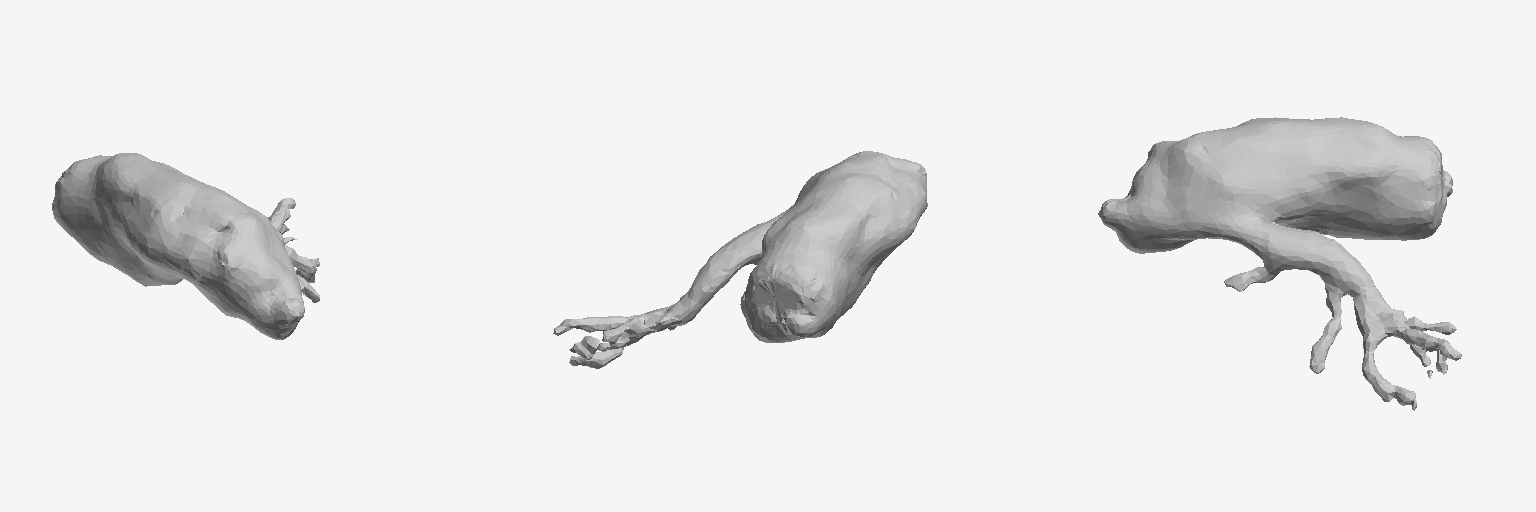
The model's file is veia2.obj.
3 views of the same model, side by side, from view 1: azimuth 30°, elevation 25°; view 2: azimuth 150°, elevation 25°; view 3: azimuth 270°, elevation 25° (orthographic).
Size of the model in its own units: 74.64 by 51.26 by 89.55.